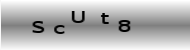8: (116, 20, 132, 33)
S: (31, 20, 44, 34)
U: (69, 9, 86, 24)
c: (52, 24, 66, 36)
t: (99, 11, 110, 25)
